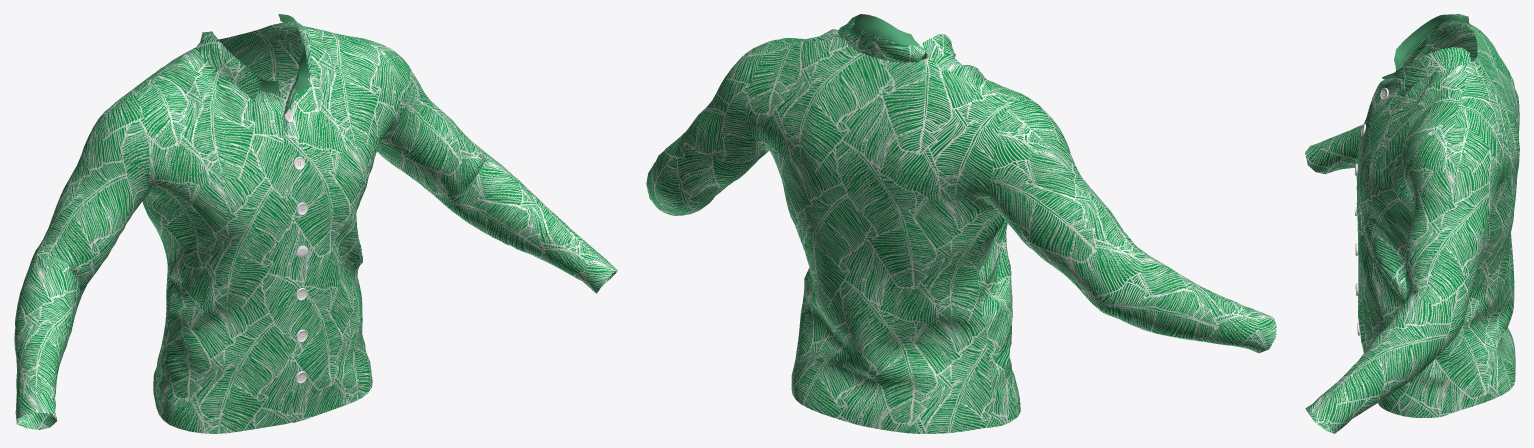
Rendered from Baju_Panjang.fbx.
3 views of the same model, side by side, from view 1: azimuth 30°, elevation 25°; view 2: azimuth 150°, elevation 25°; view 3: azimuth 270°, elevation 25° (orthographic). The views are drawn at different scales.
Parts seen in each view (by area): view 1: Baju_Panjang.006; view 2: Baju_Panjang.006; view 3: Baju_Panjang.006.
Part boxes in pixels (x1,y1,x2,y2): Baju_Panjang.006: (14,14,617,433); Baju_Panjang.006: (646,14,1276,433); Baju_Panjang.006: (1305,14,1519,433).
Size of the model in its own units: 1060 by 619 by 349.
Materials: 4 (2 with a texture image).
